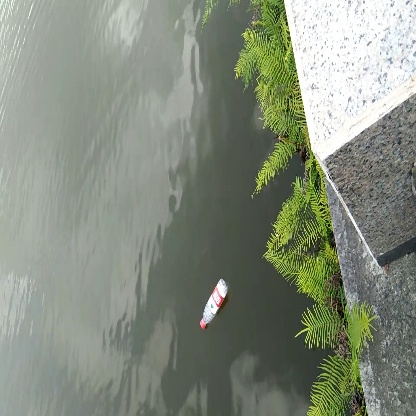bottle: (198, 274, 229, 335)
